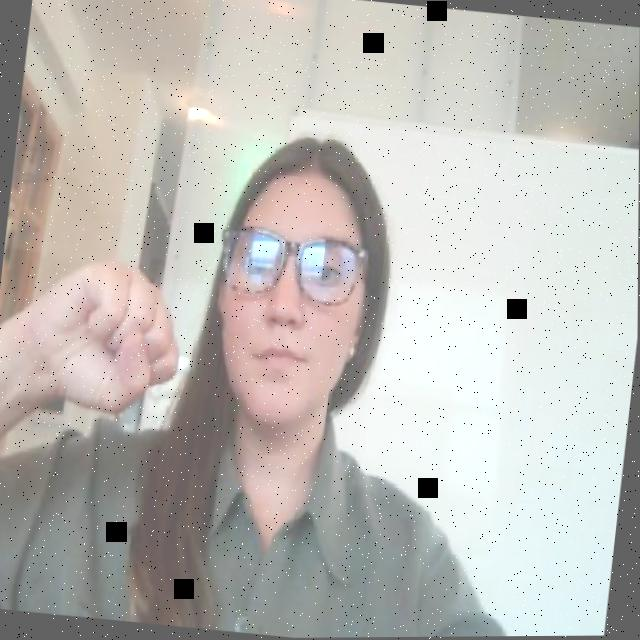Rock: (5, 246, 198, 432)
